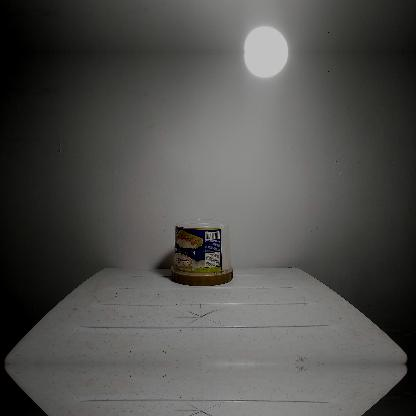Lady-s-Choice: (169, 216, 235, 286)
